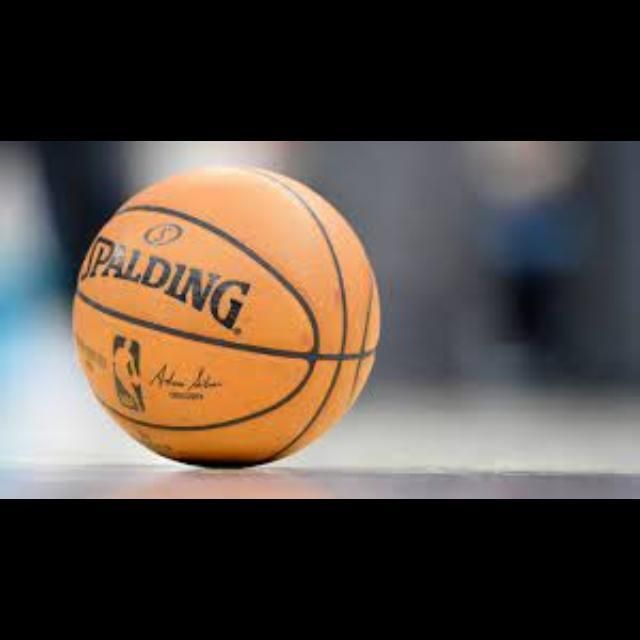basketball: (78, 170, 378, 460)
